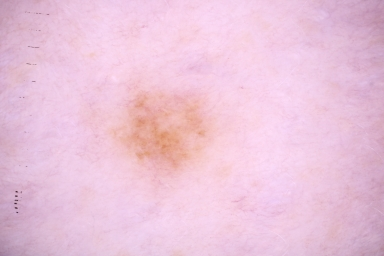nevus: (114, 86, 209, 168)
